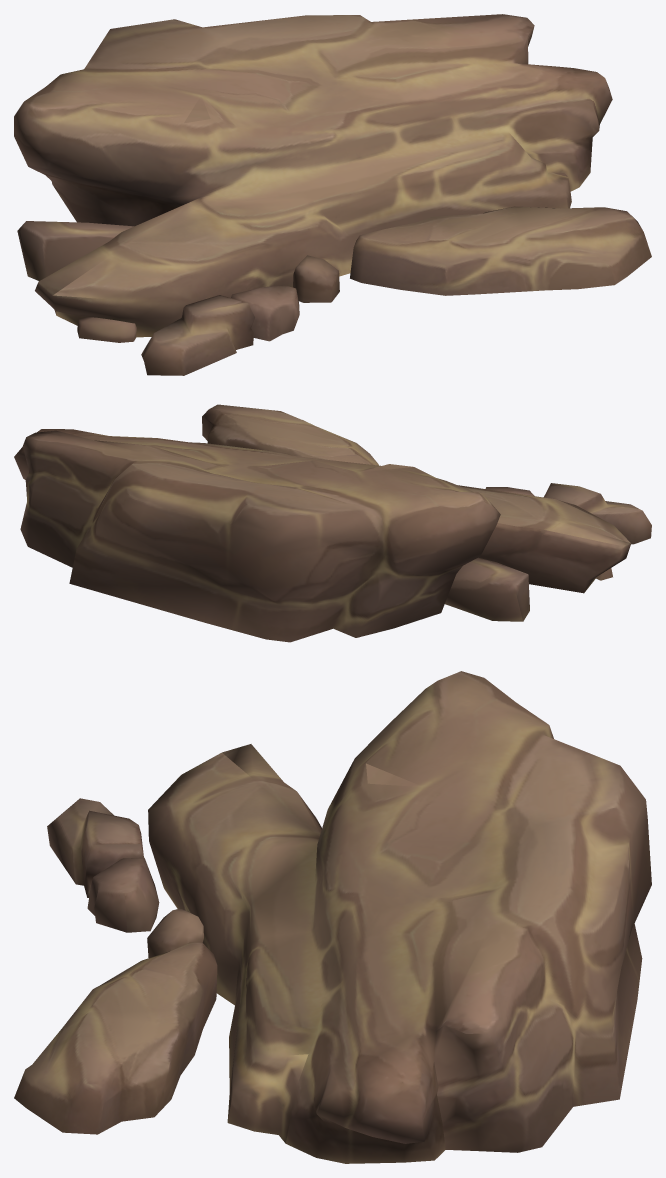
File: scene_malujiakuangdao_shan011.FBX
3 views of the same model, one above another, from view 1: azimuth 30°, elevation 25°; view 2: azimuth 150°, elevation 25°; view 3: azimuth 270°, elevation 25° (orthographic). The views are drawn at different scales.
Visible parts, largest first — view 1: scene_malujiakuangdao_shan011; view 2: scene_malujiakuangdao_shan011; view 3: scene_malujiakuangdao_shan011.
Boxes of the visible parts, x1=… form: scene_malujiakuangdao_shan011: x1=14, y1=14, x2=651, y2=375; scene_malujiakuangdao_shan011: x1=14, y1=404, x2=651, y2=642; scene_malujiakuangdao_shan011: x1=14, y1=671, x2=651, y2=1163.
Size of the model in its own units: 658 by 152 by 469.
